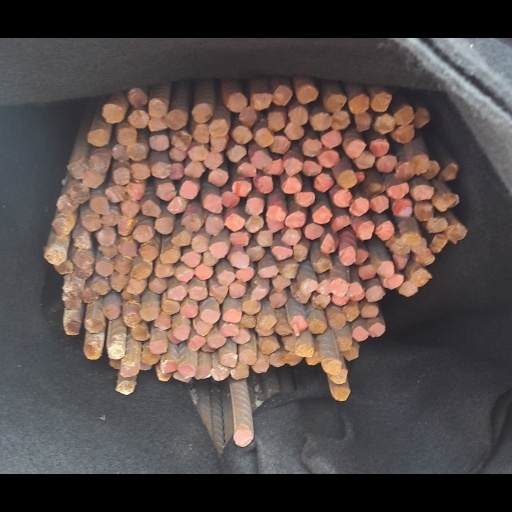dipstick: (192, 103, 212, 123), (311, 112, 332, 131), (103, 104, 123, 123), (147, 98, 166, 118), (272, 86, 292, 105), (205, 216, 224, 236), (349, 94, 369, 113), (372, 92, 391, 112), (87, 128, 108, 146), (45, 246, 66, 264), (376, 220, 394, 241), (129, 88, 148, 107), (167, 110, 186, 129), (227, 93, 246, 112), (350, 197, 369, 216), (375, 115, 394, 134), (128, 111, 148, 129), (233, 126, 253, 144), (233, 429, 253, 447), (376, 155, 396, 173), (326, 94, 346, 112), (321, 131, 342, 148), (204, 194, 222, 213), (230, 251, 249, 269), (285, 210, 304, 228), (313, 206, 332, 224), (393, 199, 412, 217), (338, 170, 356, 189), (284, 157, 302, 176), (332, 111, 350, 130), (395, 106, 413, 125), (150, 161, 170, 178), (51, 218, 71, 235), (134, 225, 154, 242), (394, 125, 414, 142), (148, 134, 169, 150), (193, 124, 209, 145), (414, 106, 429, 128), (155, 217, 173, 235), (97, 228, 115, 246), (271, 136, 289, 154), (171, 132, 190, 149), (204, 152, 223, 169), (128, 144, 147, 161), (157, 183, 176, 200), (90, 197, 109, 214), (82, 214, 101, 231), (225, 214, 244, 231), (114, 256, 131, 275), (139, 245, 158, 262), (209, 286, 228, 303), (245, 215, 264, 232), (414, 203, 433, 220), (333, 190, 352, 207), (411, 154, 428, 173), (288, 108, 307, 125), (346, 139, 365, 156), (355, 153, 374, 170), (58, 196, 78, 212), (182, 215, 202, 231), (131, 263, 151, 279), (331, 215, 351, 231), (339, 246, 355, 266), (388, 183, 408, 199), (435, 195, 455, 211), (188, 146, 209, 161), (82, 172, 103, 187), (118, 129, 136, 146), (209, 119, 227, 136), (89, 155, 107, 172), (68, 162, 86, 179), (167, 197, 185, 214), (180, 181, 197, 199), (315, 174, 332, 192), (396, 162, 413, 180), (255, 129, 272, 147), (303, 139, 321, 156), (70, 186, 89, 202), (209, 170, 228, 186), (172, 231, 191, 247), (74, 252, 93, 268), (127, 278, 146, 294), (304, 223, 323, 239), (427, 218, 447, 233), (413, 186, 433, 201), (251, 152, 271, 167), (239, 108, 256, 125), (74, 232, 91, 249), (440, 163, 457, 180), (371, 139, 388, 156), (253, 93, 271, 109), (184, 162, 202, 178), (142, 201, 160, 217), (110, 275, 128, 291), (269, 292, 287, 308), (272, 276, 290, 292), (245, 198, 263, 214), (366, 286, 384, 302), (370, 197, 388, 213), (282, 177, 300, 193), (256, 177, 274, 193), (114, 167, 129, 186), (131, 164, 150, 179), (106, 186, 125, 201), (63, 281, 82, 296), (181, 252, 200, 267), (211, 366, 230, 381), (229, 231, 248, 246), (416, 251, 435, 266), (268, 112, 283, 131), (303, 161, 322, 176), (320, 151, 339, 166), (116, 381, 136, 395), (260, 341, 280, 355), (294, 192, 314, 206), (446, 226, 466, 240), (257, 265, 278, 278), (209, 136, 226, 152), (122, 201, 139, 217), (192, 235, 208, 252), (149, 278, 166, 294), (154, 313, 171, 329), (233, 181, 251, 196), (195, 265, 213, 280), (236, 267, 254, 282), (329, 313, 344, 331), (282, 229, 300, 244), (228, 146, 246, 161), (285, 124, 303, 139), (355, 113, 370, 131), (161, 249, 180, 263), (174, 267, 193, 281), (161, 300, 180, 314), (168, 286, 187, 300), (207, 334, 226, 348), (359, 221, 373, 240), (200, 309, 220, 322), (383, 275, 403, 288), (332, 279, 348, 295), (378, 261, 394, 277), (413, 269, 429, 285), (267, 159, 283, 175), (95, 261, 112, 276), (124, 311, 141, 326), (210, 242, 227, 257), (239, 350, 256, 365), (324, 360, 341, 375), (352, 326, 369, 341), (431, 235, 446, 252), (118, 242, 136, 256), (131, 327, 149, 341), (223, 309, 241, 323), (232, 330, 250, 344), (230, 366, 248, 380), (266, 206, 284, 220), (295, 343, 313, 357), (309, 320, 327, 334), (313, 258, 331, 272), (98, 245, 117, 258), (85, 319, 104, 332), (91, 281, 110, 294), (242, 301, 261, 314), (273, 246, 292, 259), (311, 295, 330, 308), (237, 164, 256, 177), (127, 184, 143, 199), (102, 211, 118, 226), (222, 192, 238, 207), (229, 283, 245, 298), (257, 231, 272, 247), (291, 316, 307, 331), (343, 306, 359, 321), (84, 345, 101, 359), (140, 307, 157, 321), (188, 336, 205, 350), (217, 271, 234, 285), (250, 287, 267, 301), (359, 265, 376, 279), (63, 297, 81, 310), (155, 264, 173, 277), (189, 286, 207, 299), (360, 305, 378, 318), (321, 235, 334, 253), (399, 282, 417, 295), (65, 320, 80, 335), (113, 146, 127, 162), (121, 363, 137, 377), (221, 353, 237, 367), (282, 263, 298, 277), (346, 282, 362, 296), (293, 245, 307, 261), (149, 118, 166, 131), (170, 164, 183, 181), (117, 218, 130, 235), (150, 340, 167, 353), (331, 371, 348, 384), (275, 324, 293, 336), (285, 353, 303, 365), (392, 242, 410, 254), (427, 160, 439, 178), (175, 326, 190, 340), (302, 279, 317, 293), (270, 353, 285, 367), (393, 255, 408, 269), (411, 239, 426, 253), (73, 268, 92, 279), (107, 346, 123, 359), (202, 253, 218, 266), (294, 291, 310, 304), (333, 388, 349, 401), (336, 337, 352, 350), (369, 323, 385, 336), (170, 149, 187, 161), (103, 307, 120, 319), (221, 324, 238, 336), (180, 306, 198, 317), (266, 220, 284, 231), (83, 290, 98, 303), (248, 247, 263, 260), (344, 347, 359, 360), (143, 353, 159, 365), (196, 323, 212, 335), (253, 361, 269, 373), (56, 262, 73, 273), (402, 233, 419, 244), (196, 367, 211, 379), (259, 317, 274, 329), (283, 337, 295, 352), (356, 249, 368, 264), (161, 360, 178, 370), (241, 315, 254, 328), (318, 280, 331, 293), (180, 365, 194, 377), (174, 373, 190, 382), (306, 353, 319, 364), (333, 296, 348, 305), (257, 330, 273, 337), (349, 293, 363, 301), (158, 373, 170, 381)
